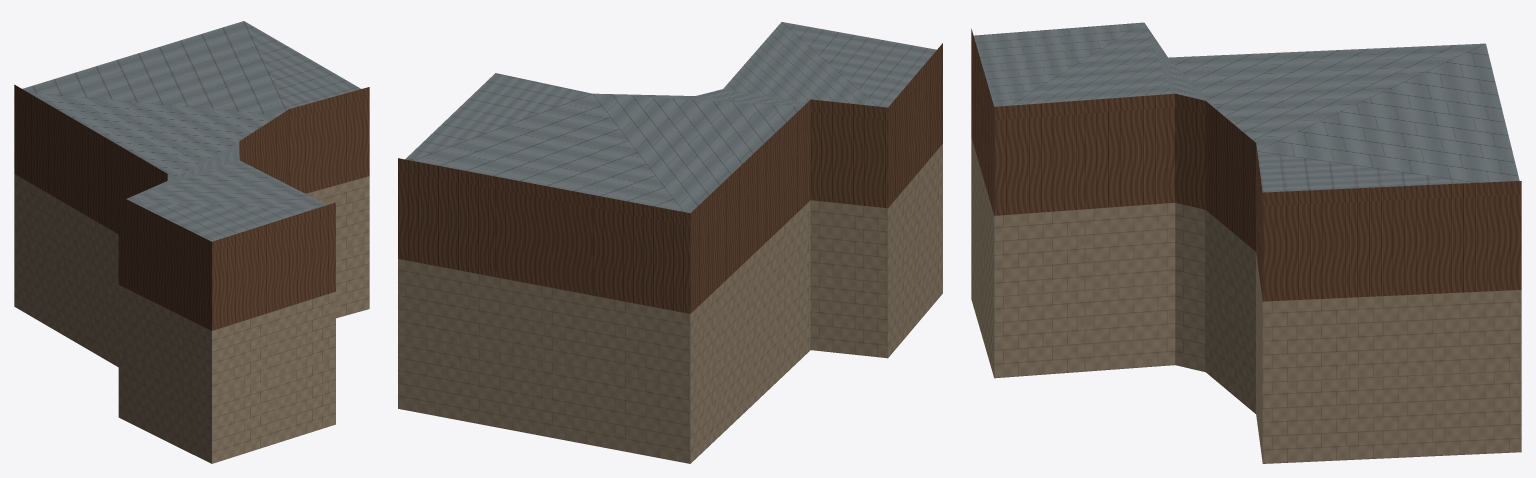
Rendered from bld_c-18_19_509.gltf.
The picture shows the model from 3 angles, left to right: view 1: azimuth 30°, elevation 25°; view 2: azimuth 150°, elevation 25°; view 3: azimuth 270°, elevation 25°; orthographic projection. The views are drawn at different scales.
Visible parts, largest first — view 1: bld_c-18_19_509; view 2: bld_c-18_19_509; view 3: bld_c-18_19_509.
Part boxes in pixels (x1,y1,x2,y2): bld_c-18_19_509: (14, 21, 369, 463); bld_c-18_19_509: (398, 22, 942, 463); bld_c-18_19_509: (971, 22, 1521, 463).
Size of the model in its own units: 10.83 by 7.68 by 14.12.
Materials: 4 (4 with a texture image).
